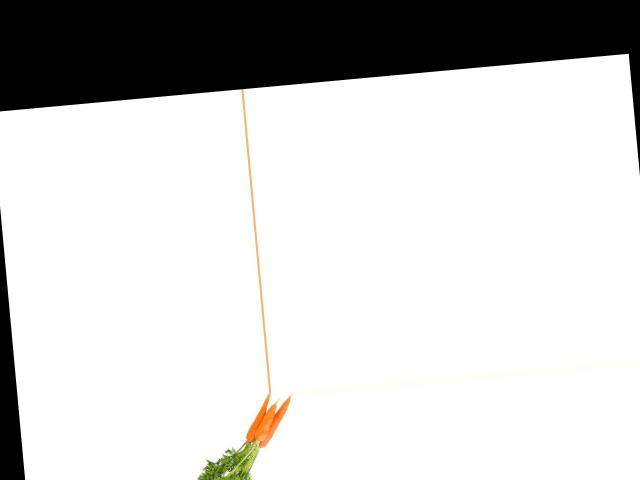carrot: (240, 394, 275, 441)
